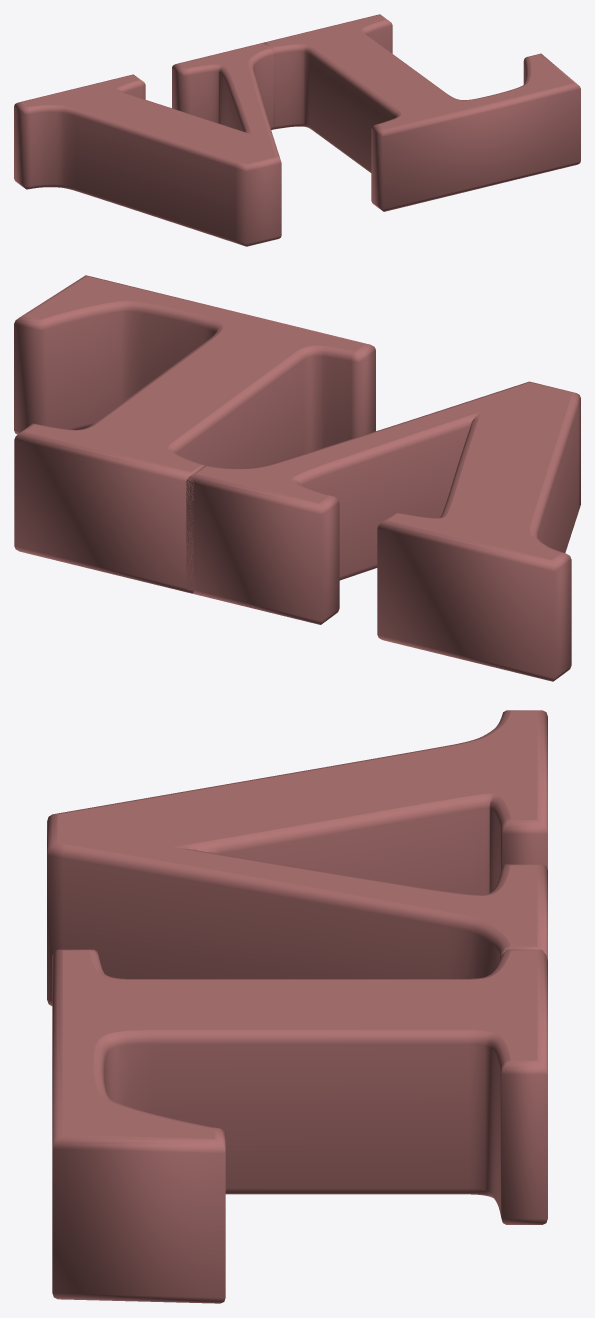
The model's file is vl-mark.glb.
3 renders of one model, top to bottom at view 1: azimuth 30°, elevation 25°; view 2: azimuth 150°, elevation 25°; view 3: azimuth 270°, elevation 25°, orthographic. The views are drawn at different scales.
Parts seen in each view (by area): view 1: Text; view 2: Text; view 3: Text.
Boxes of the visible parts, x1=… form: Text: x1=14, y1=14, x2=580, y2=246; Text: x1=14, y1=275, x2=580, y2=681; Text: x1=47, y1=710, x2=547, y2=1303.
Size of the model in its own units: 1 by 0.1744 by 0.4842.
